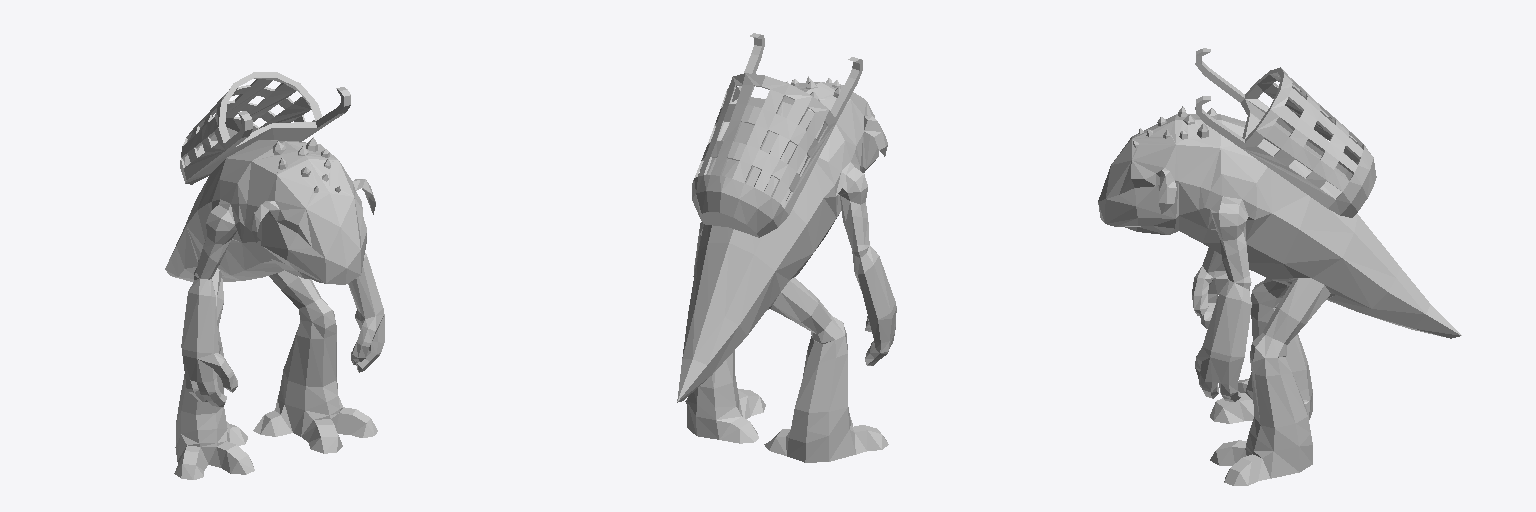
The model's file is beshon.obj.
3 renders of one model, left to right at view 1: azimuth 30°, elevation 25°; view 2: azimuth 150°, elevation 25°; view 3: azimuth 270°, elevation 25°, orthographic.
Bounding box in the file's own units: 0.8697 × 1.53 × 1.39.